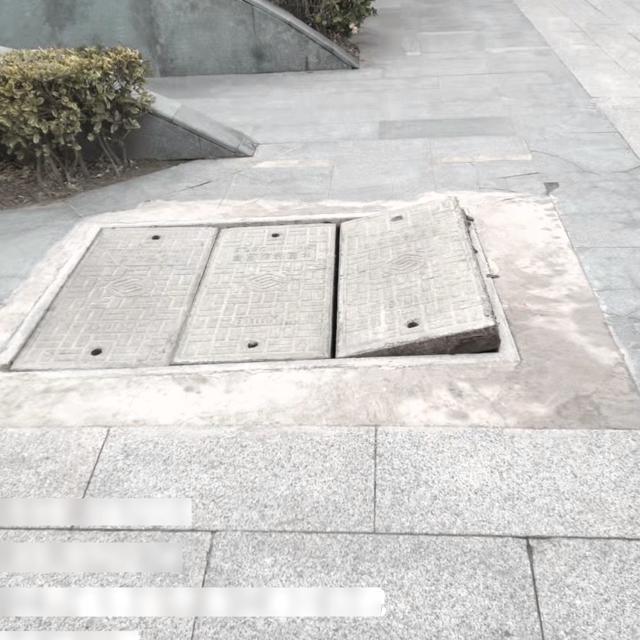uncovered: (0, 200, 518, 387)
